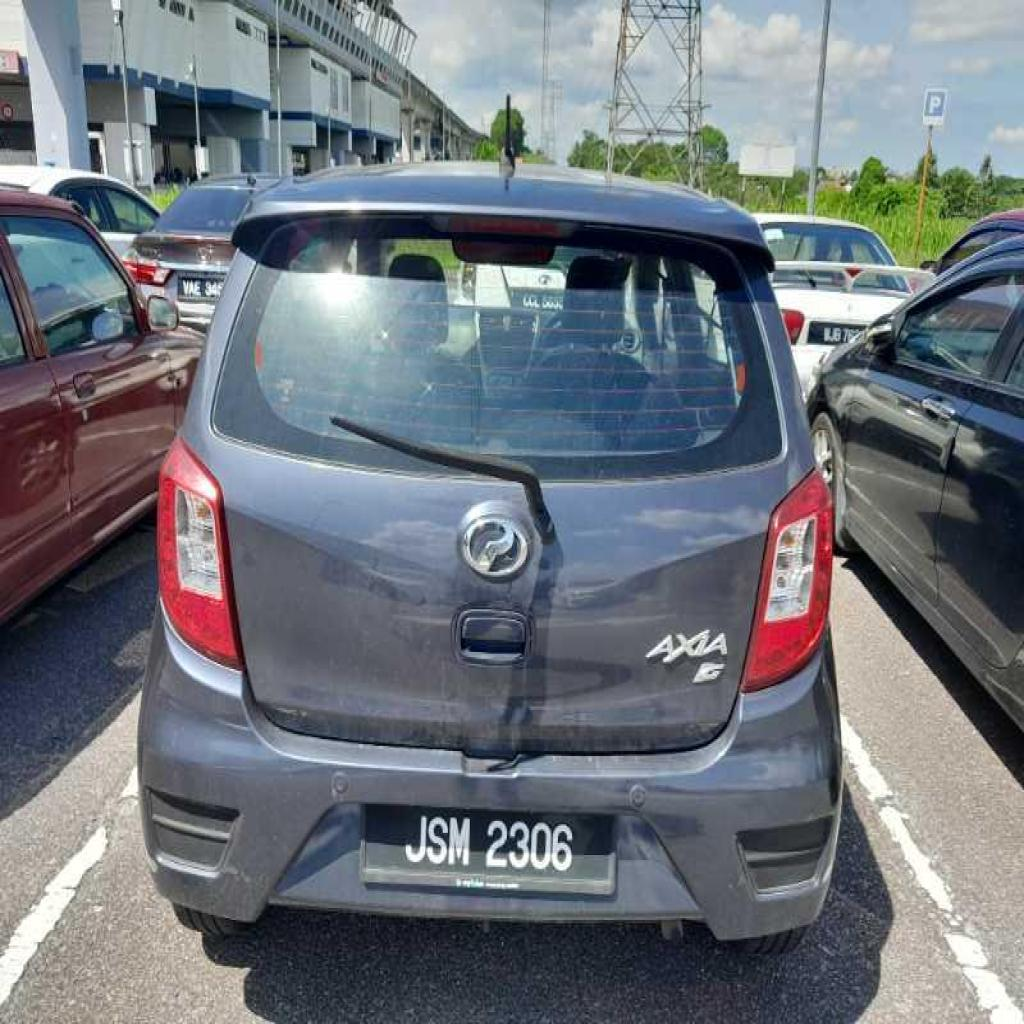car: (140, 162, 841, 949)
car plate: (360, 806, 614, 893)
